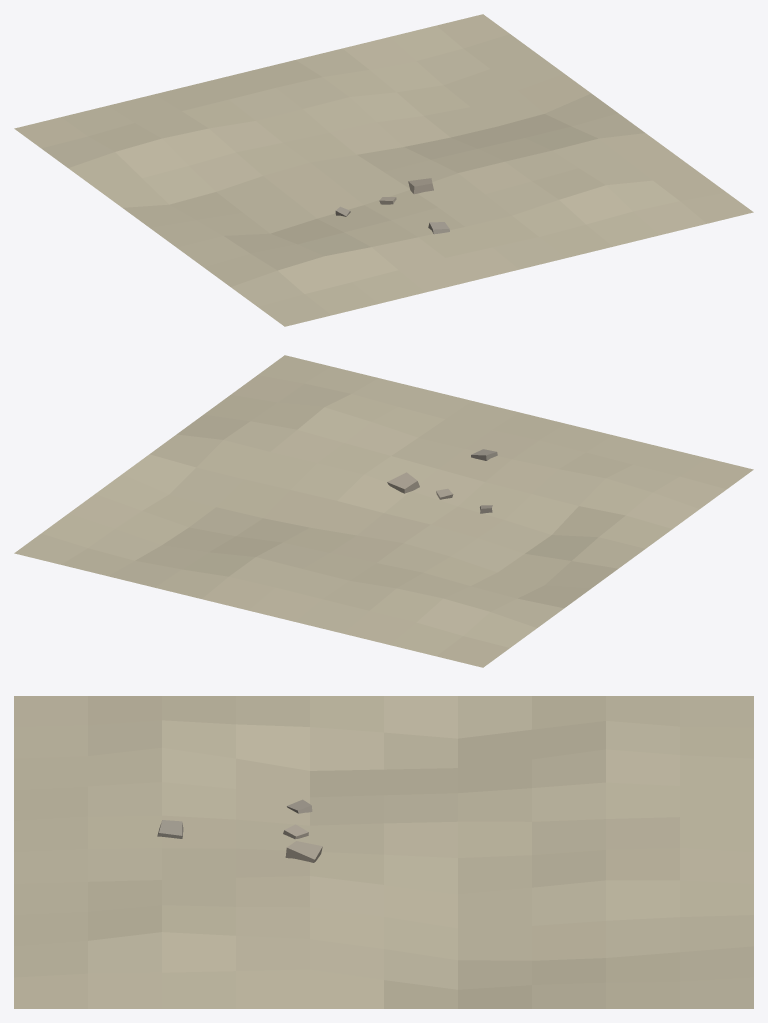
File: sand_lowpoly_a.glb
3 renders of one model, top to bottom at view 1: azimuth 30°, elevation 25°; view 2: azimuth 150°, elevation 25°; view 3: azimuth 270°, elevation 25°, orthographic. The views are drawn at different scales.
Parts seen in each view (by area): view 1: SandTile; view 2: SandTile; view 3: SandTile.
Boxes of the visible parts, x1,y1,x2,y2 form: SandTile: (14,14,753,326); SandTile: (14,355,753,667); SandTile: (14,696,753,1008).
Bounding box in the file's own units: 1 × 0.0452 × 1.
